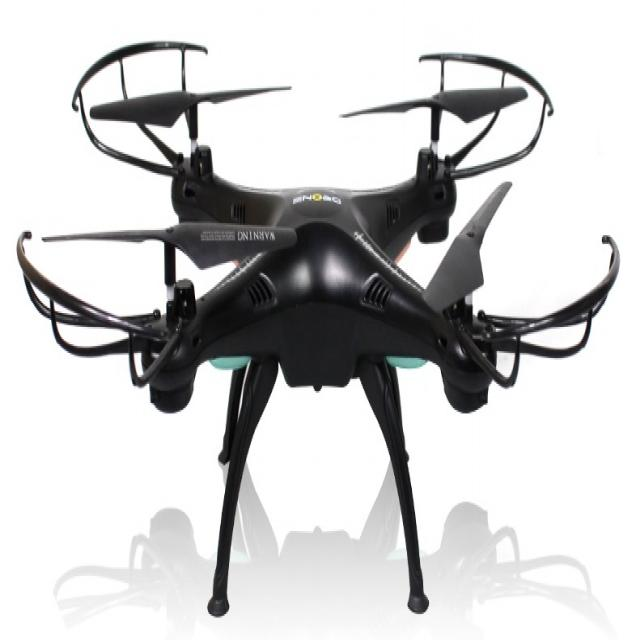drone: (12, 28, 630, 616)
